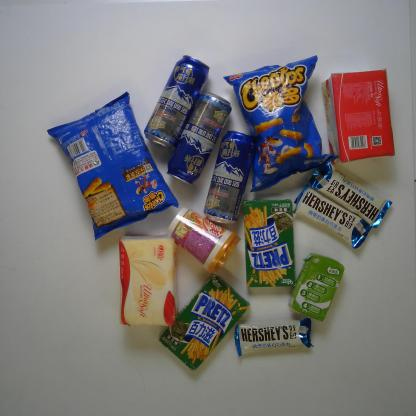Alcohol: (143, 54, 210, 150), (166, 91, 232, 186), (203, 129, 256, 225)
Chocolate: (306, 160, 392, 228), (292, 184, 372, 249), (234, 317, 314, 357)
Dessert: (158, 274, 250, 372), (243, 198, 296, 288)
Instant Drink: (167, 207, 241, 277)
Milk: (288, 253, 345, 322)
Puffed Food: (46, 91, 179, 241), (222, 54, 338, 192)
Tissue: (321, 68, 395, 165), (119, 235, 178, 326)
